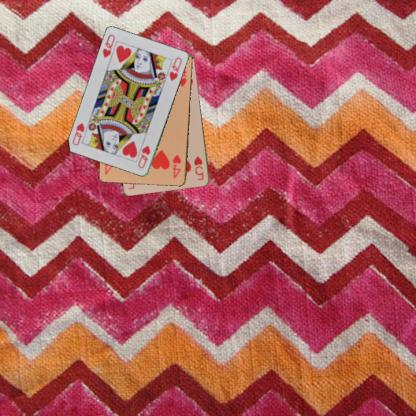4h: (170, 152, 182, 180)
5h: (191, 154, 205, 181)
Qh: (100, 32, 116, 59), (136, 143, 151, 170)
